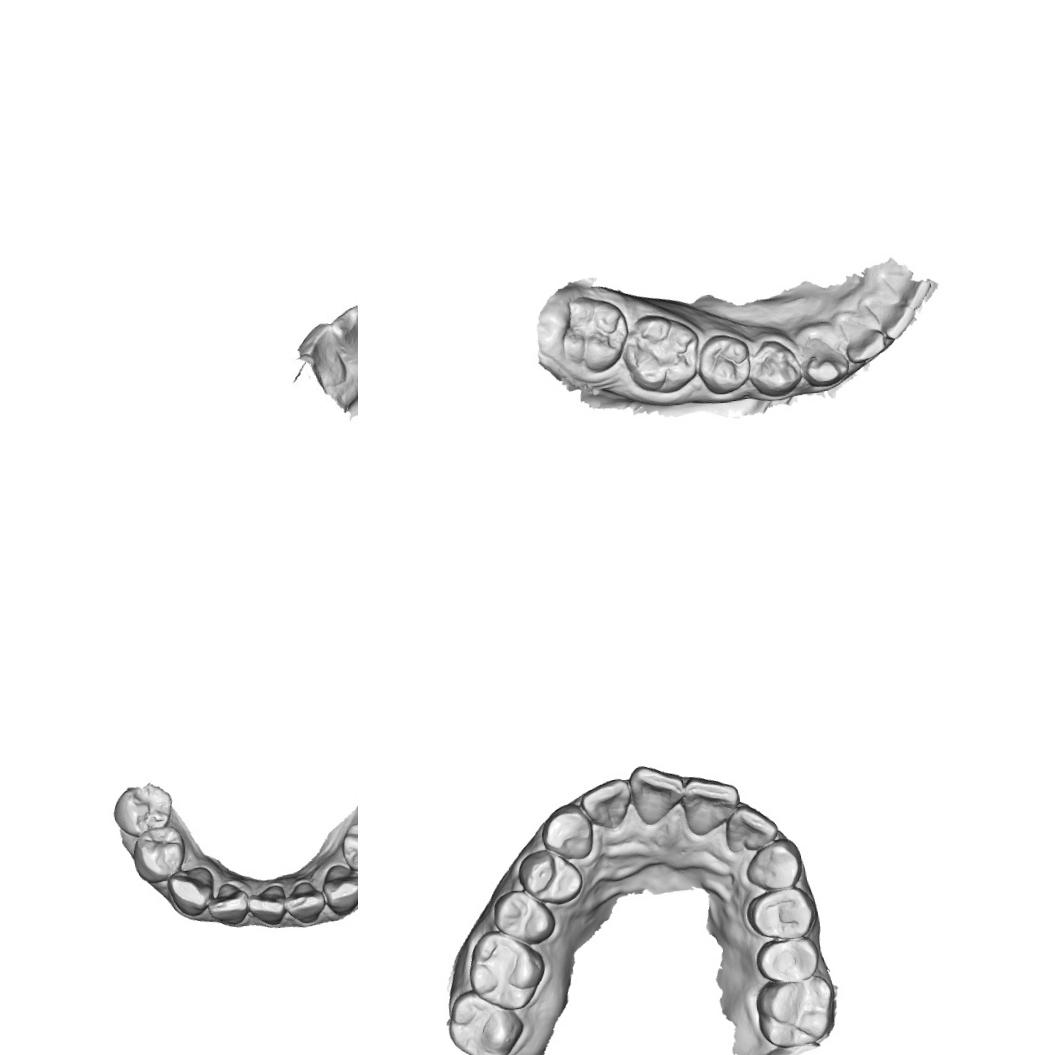canine: (742, 835, 808, 892), (538, 800, 596, 862), (797, 330, 851, 390), (164, 865, 216, 918), (320, 861, 358, 917)
incisor: (294, 314, 350, 392), (680, 770, 743, 838), (626, 760, 686, 827), (577, 776, 636, 833), (721, 798, 780, 855), (840, 308, 890, 366), (204, 880, 250, 927), (280, 879, 326, 926), (325, 305, 358, 370), (244, 879, 288, 927), (874, 299, 920, 341)
molar: (618, 307, 704, 399), (464, 925, 548, 1015), (554, 290, 633, 377), (752, 972, 838, 1050), (443, 984, 527, 1055)
premolar: (514, 844, 586, 908), (743, 883, 819, 942), (491, 886, 559, 949), (746, 334, 806, 399), (110, 779, 175, 839), (695, 330, 753, 396), (129, 823, 188, 885), (752, 932, 820, 985), (337, 818, 358, 879)
